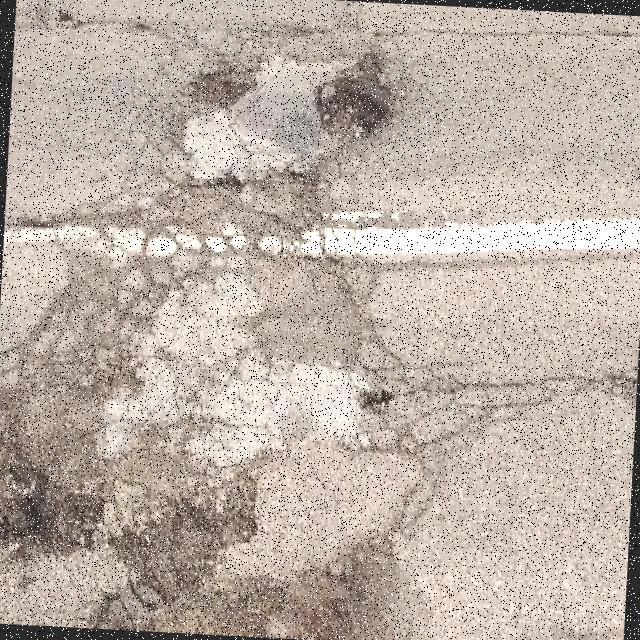Pothole: (104, 480, 258, 609), (0, 415, 106, 583), (319, 46, 388, 141), (200, 66, 255, 119)
